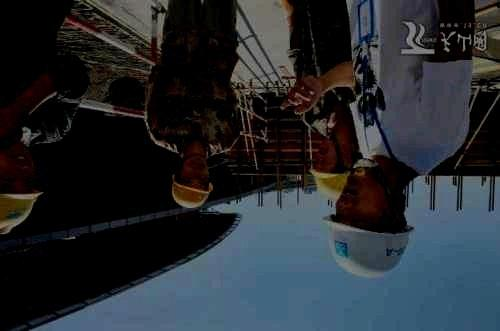helmet: (320, 157, 416, 278), (1, 145, 44, 235), (308, 126, 351, 201), (172, 154, 213, 209)
